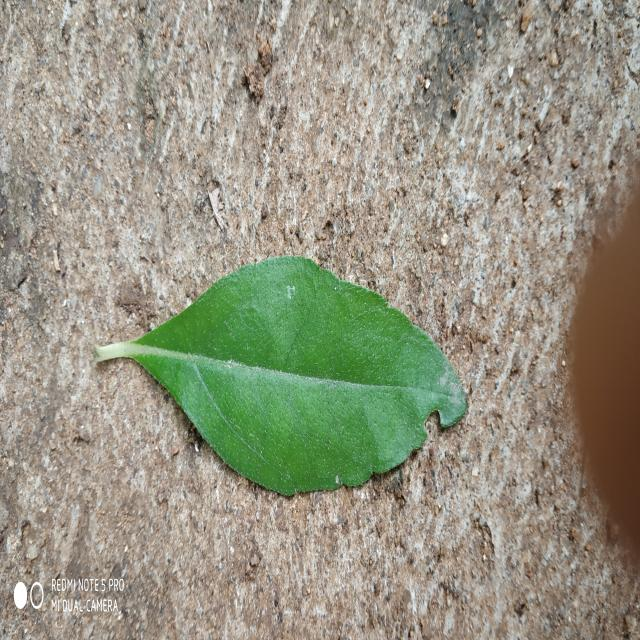bringaraja: (95, 258, 466, 495)
